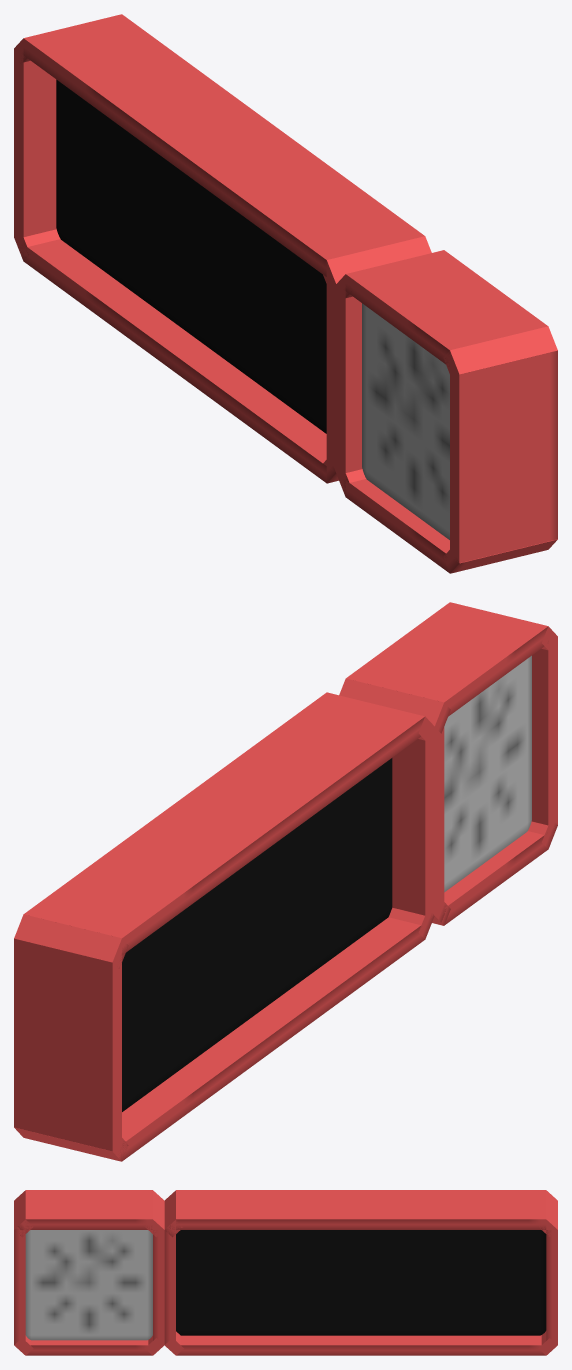
File: akn_pids_normal.obj
3 renders of one model, top to bottom at view 1: azimuth 30°, elevation 25°; view 2: azimuth 150°, elevation 25°; view 3: azimuth 270°, elevation 25°, orthographic. The views are drawn at different scales.
Parts seen in each view (by area): view 1: cube; view 2: cube; view 3: cube.
Boxes of the visible parts, left/top/right/bottom form: cube: left=14, top=14, right=557, bottom=573; cube: left=14, top=602, right=557, bottom=1161; cube: left=14, top=1190, right=557, bottom=1355.
Size of the model in its own units: 0.375 by 0.8134 by 2.94.
Materials: 1 (1 with a texture image).
